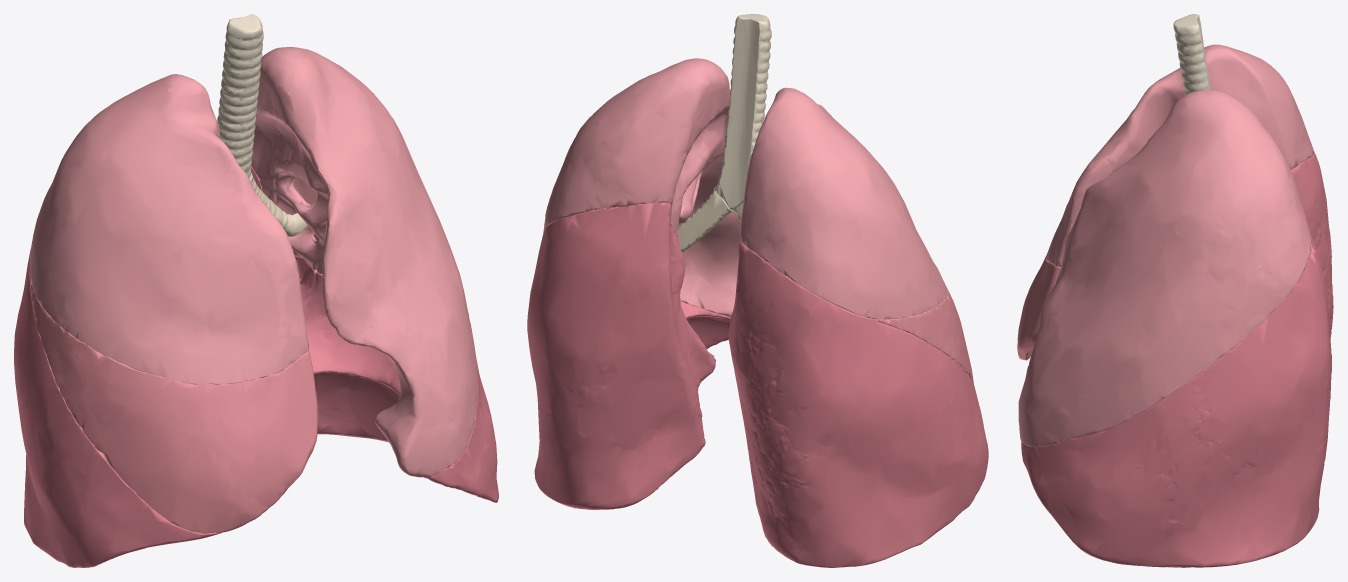
The model's file is lungs.glb.
3 views of the same model, side by side, from view 1: azimuth 30°, elevation 25°; view 2: azimuth 150°, elevation 25°; view 3: azimuth 270°, elevation 25° (orthographic). The views are drawn at different scales.
Parts seen in each view (by area): view 1: right-lung-upper-lobe, left-lung-upper-lobe, right-lung-middle-lobe, right-lung-lower-lobe, left-lung-lower-lobe, trachea, left-main-bronchus; view 2: right-lung-lower-lobe, left-lung-lower-lobe, right-lung-upper-lobe, left-lung-upper-lobe, trachea, right-lung-middle-lobe, left-main-bronchus; view 3: left-lung-upper-lobe, left-lung-lower-lobe, right-lung-upper-lobe, right-lung-lower-lobe, trachea, right-lung-middle-lobe.
Boxes of the visible parts, bbox=[...] form: right-lung-upper-lobe: bbox=[29, 74, 308, 384]; left-lung-upper-lobe: bbox=[251, 47, 477, 477]; right-lung-middle-lobe: bbox=[29, 275, 318, 533]; right-lung-lower-lobe: bbox=[14, 250, 222, 567]; left-lung-lower-lobe: bbox=[250, 166, 498, 502]; trachea: bbox=[217, 14, 263, 183]; left-main-bronchus: bbox=[251, 178, 307, 236]; right-lung-lower-lobe: bbox=[728, 242, 988, 567]; left-lung-lower-lobe: bbox=[527, 202, 730, 509]; right-lung-upper-lobe: bbox=[740, 87, 947, 319]; left-lung-upper-lobe: bbox=[543, 58, 741, 318]; trachea: bbox=[714, 14, 771, 211]; right-lung-middle-lobe: bbox=[875, 286, 973, 383]; left-main-bronchus: bbox=[677, 189, 731, 252]; left-lung-upper-lobe: bbox=[1018, 89, 1311, 446]; left-lung-lower-lobe: bbox=[1021, 230, 1331, 567]; right-lung-upper-lobe: bbox=[1046, 44, 1314, 267]; right-lung-lower-lobe: bbox=[1290, 153, 1333, 337]; trachea: bbox=[1173, 14, 1211, 94]; right-lung-middle-lobe: bbox=[1017, 256, 1061, 360].
Size of the model in its own units: 0.2534 by 0.2897 by 0.181.
